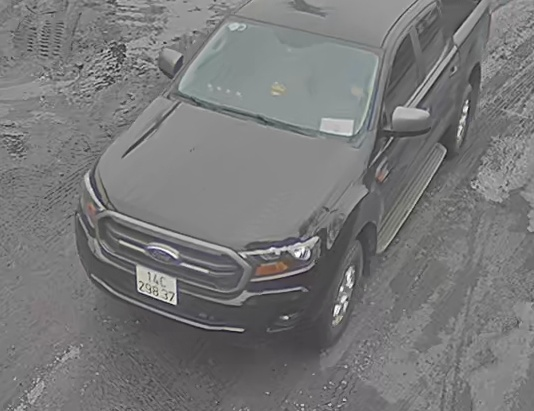vehicle plate: (135, 262, 177, 305)
